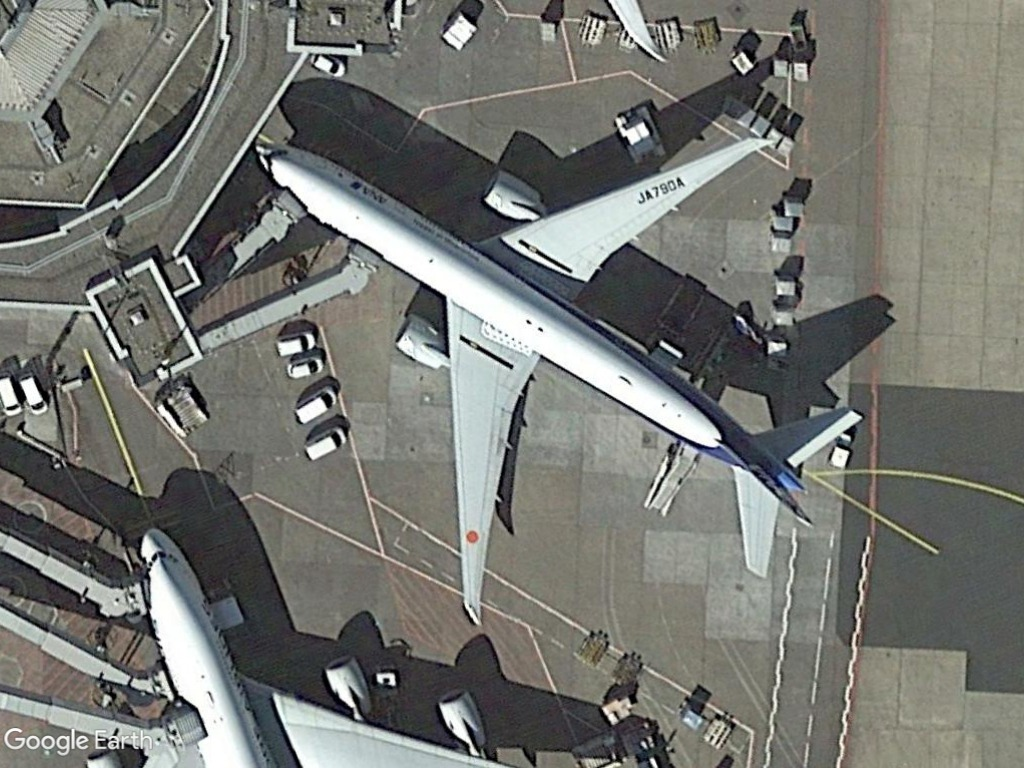airliner: (243, 108, 868, 634)
van: (275, 384, 350, 428), (294, 423, 353, 466)
